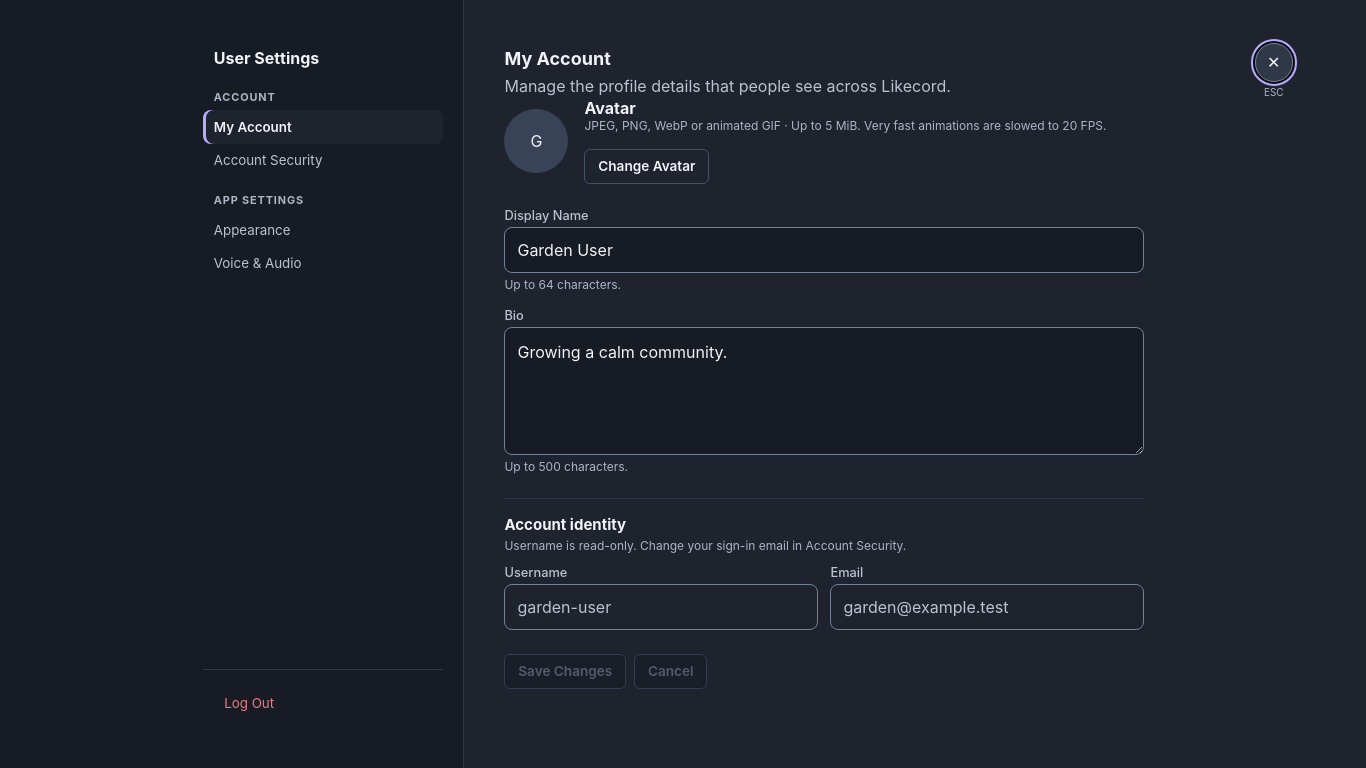
Test case: User Settings workspace › cancels drafts without persisting them
Replace the text in the field labelled "Display Name" with "Unsaved" at (824, 250), box [504,227,1144,273]
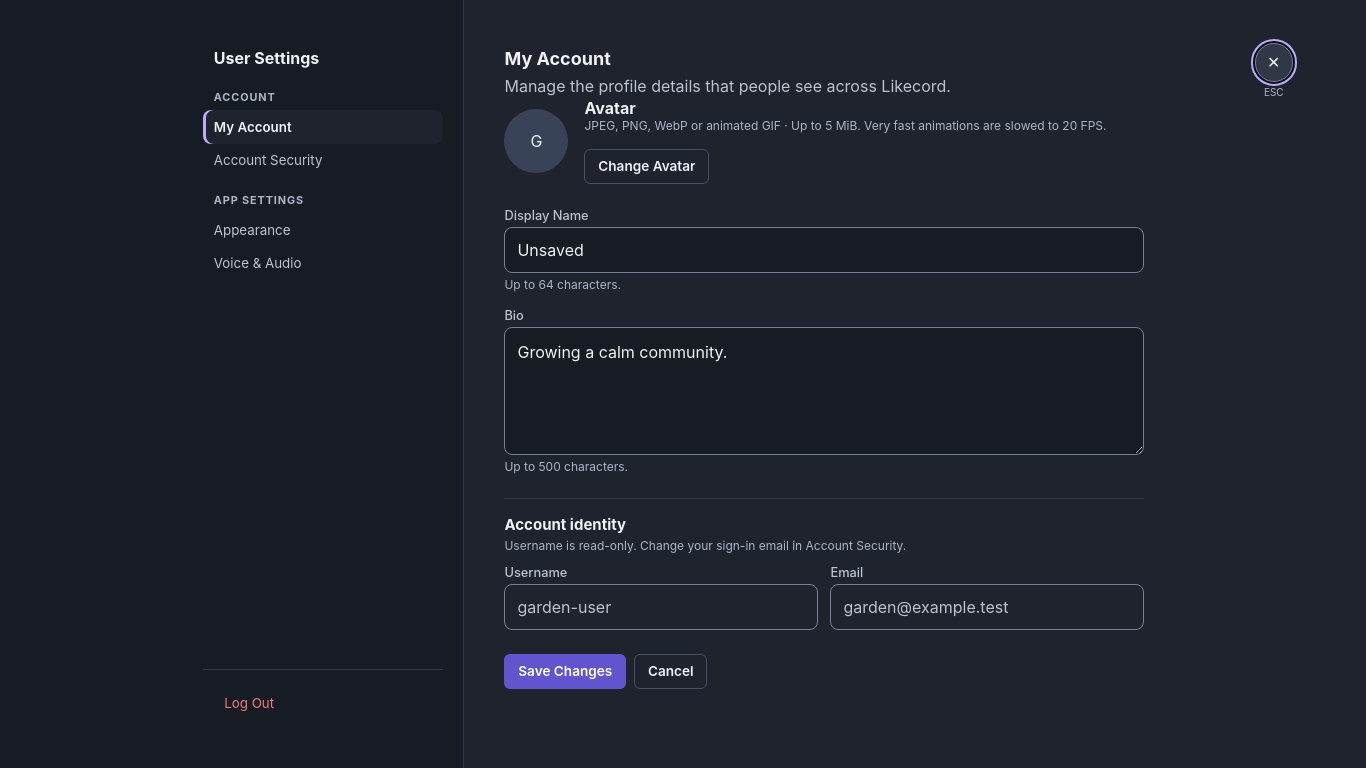
Replace the text in the text box labelled "Bio" with "Unsaved bio" at (824, 391), box [504,327,1144,455]
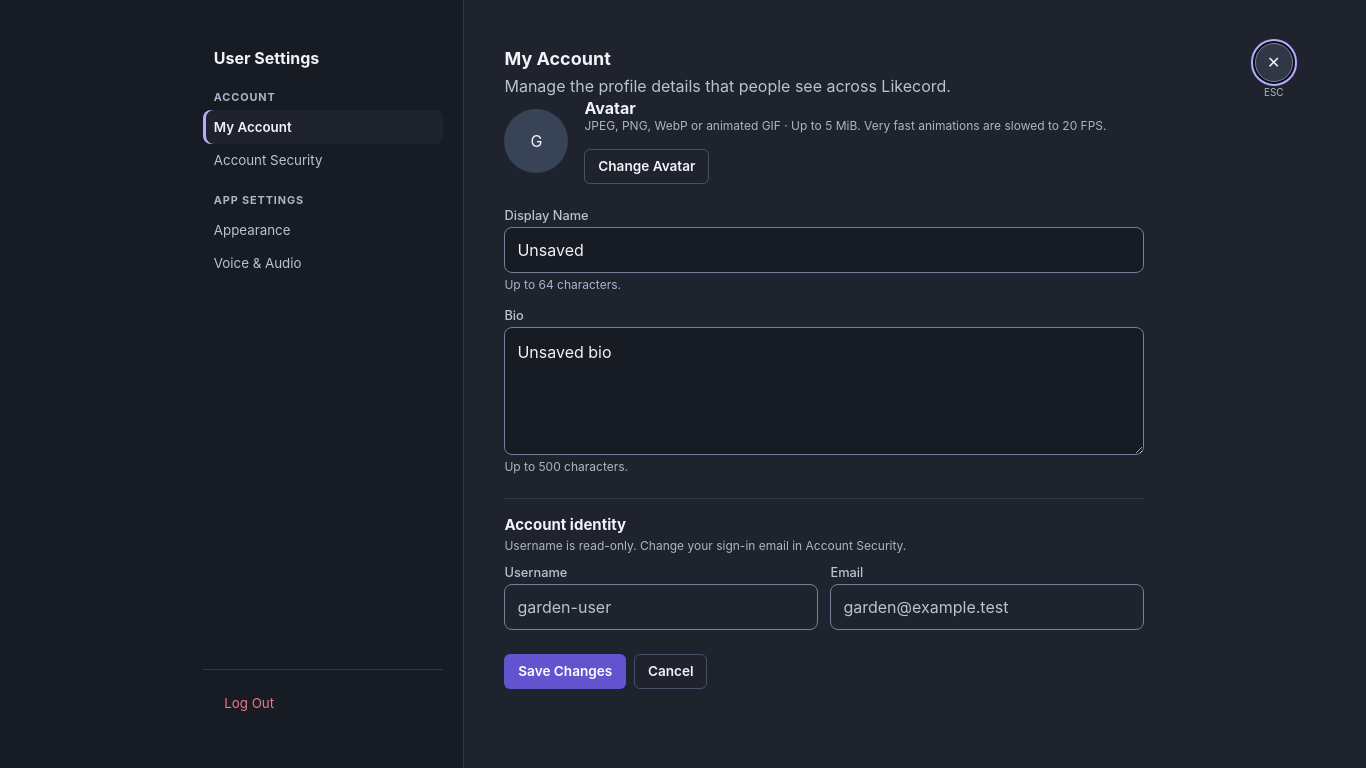
Click the button "Cancel".
click(671, 671)  # box [634,654,707,689]
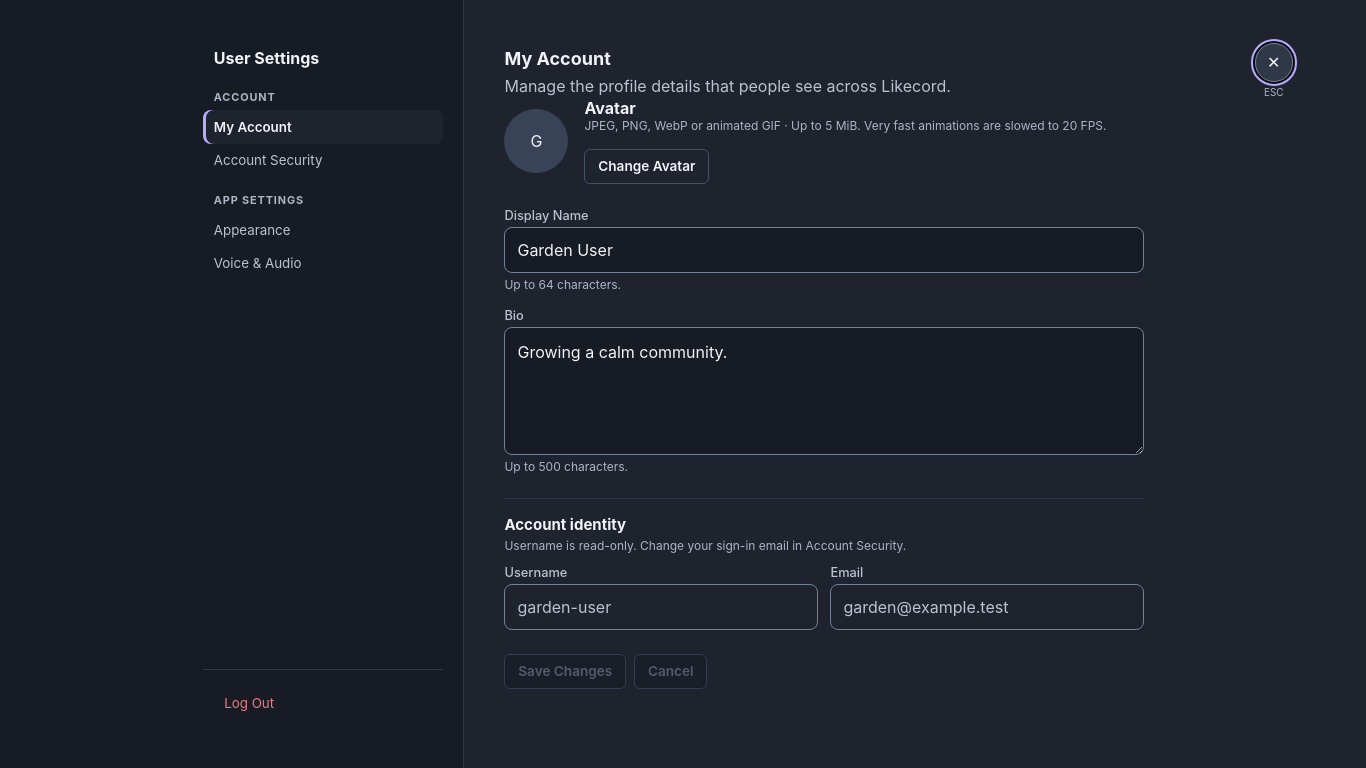
Check: the field labelled "Display Name" holds "Garden User", box [504,227,1144,273]
Check: the text box labelled "Bio" holds "Growing a calm community.", box [504,327,1144,455]
